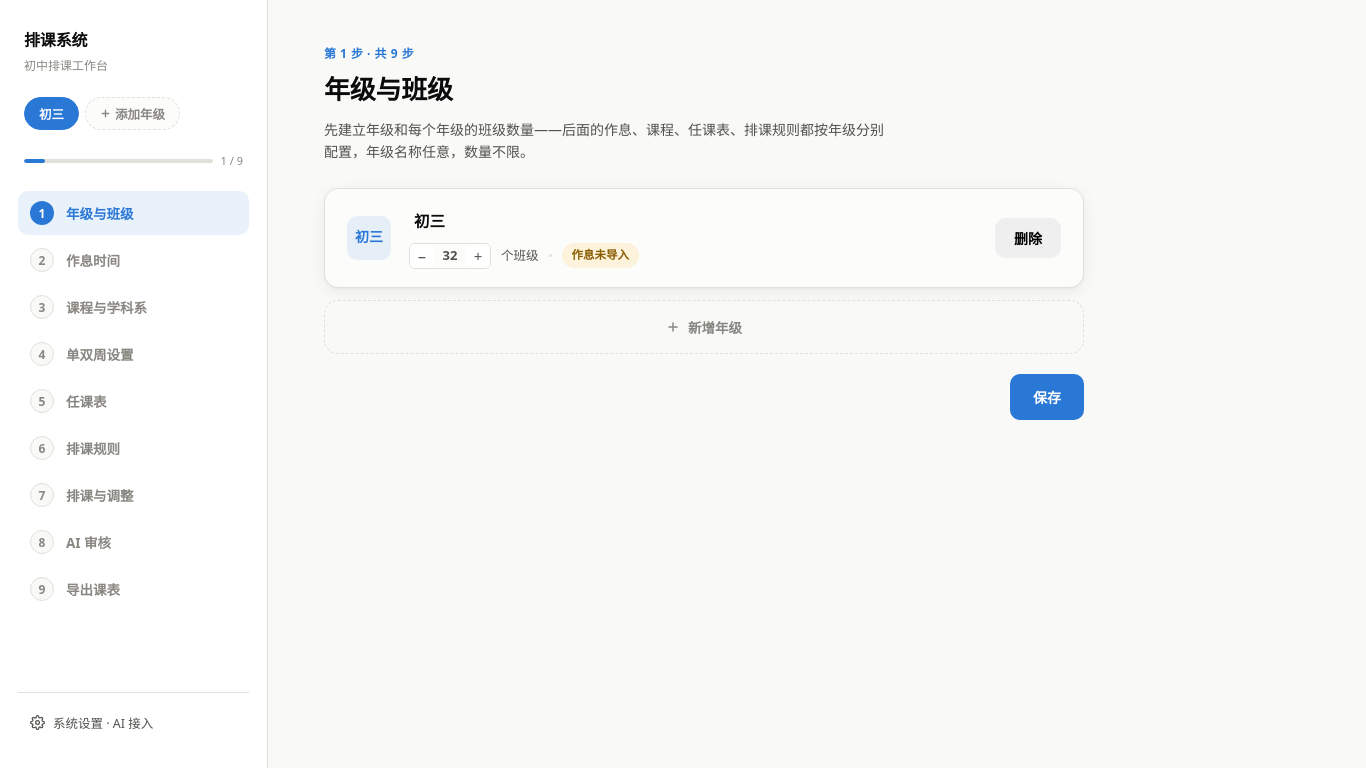
Test: App navigation › clicking a nav step switches the main content
Click the button with test id "nav-step" showing "5 任课表": click(134, 401) left=18, top=379, right=249, bottom=423
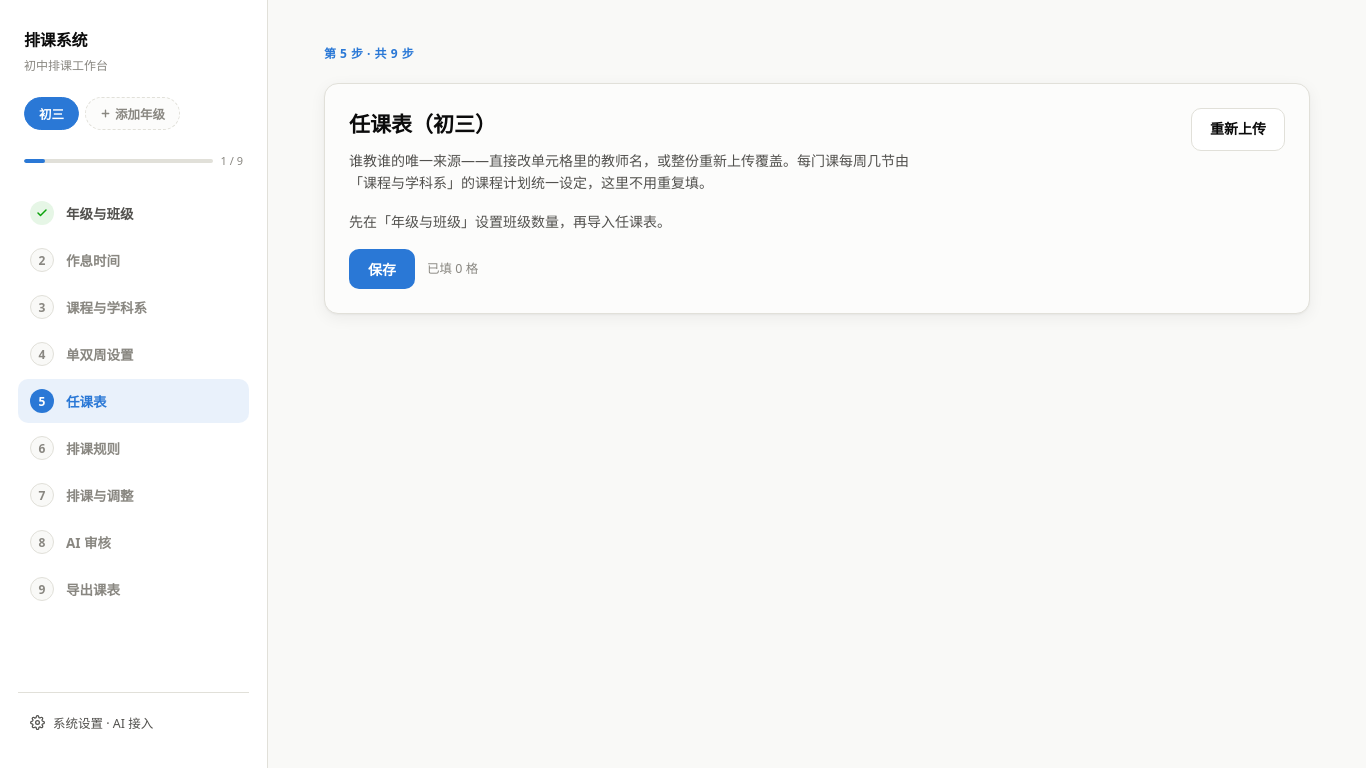
Now the element that starts with "任课表（初三）" is shown, box left=324, top=83, right=1310, bottom=314
